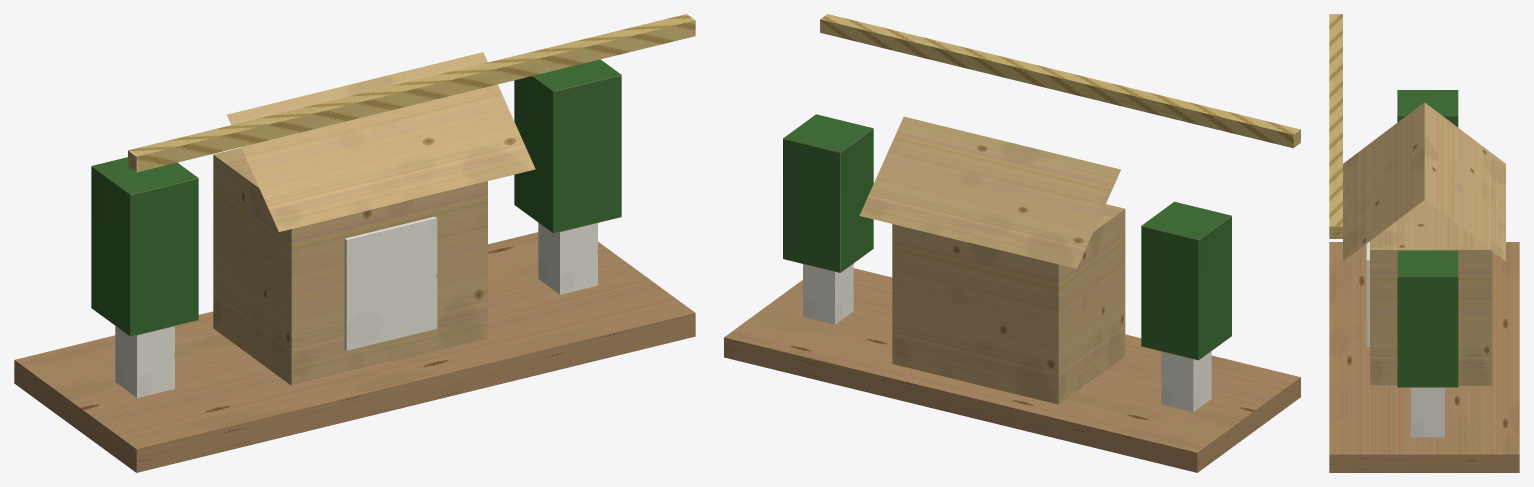
Rendered from kamidana.glb.
The picture shows the model from 3 angles, left to right: view 1: azimuth 30°, elevation 25°; view 2: azimuth 150°, elevation 25°; view 3: azimuth 270°, elevation 25°; orthographic projection. The views are drawn at different scales.
Parts seen in each view (by area): view 1: kamidana; view 2: kamidana; view 3: kamidana.
Boxes of the visible parts, bbox=[...] form: kamidana: bbox=[14, 14, 695, 472]; kamidana: bbox=[724, 14, 1300, 472]; kamidana: bbox=[1329, 14, 1519, 472].
Size of the model in its own units: 0.74 by 0.4 by 0.28.
Materials: 1 (1 with a texture image).
